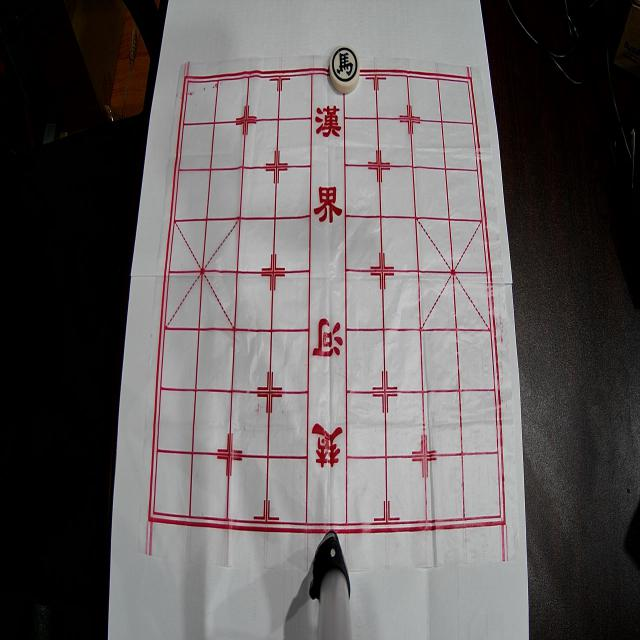black-horse: (330, 45, 360, 93)
